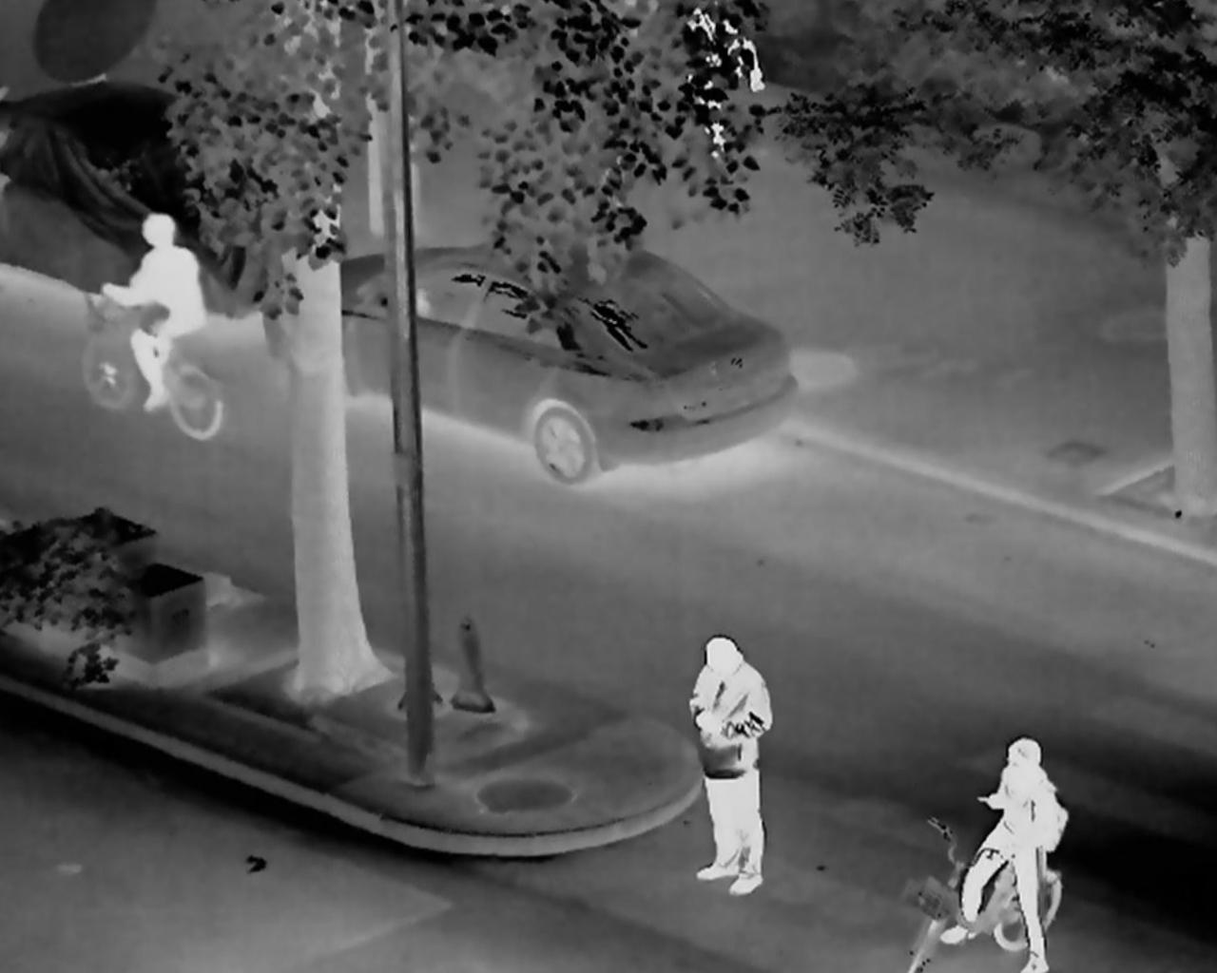person: (942, 736, 1059, 973), (690, 634, 770, 896), (99, 212, 204, 411), (687, 6, 762, 162)
